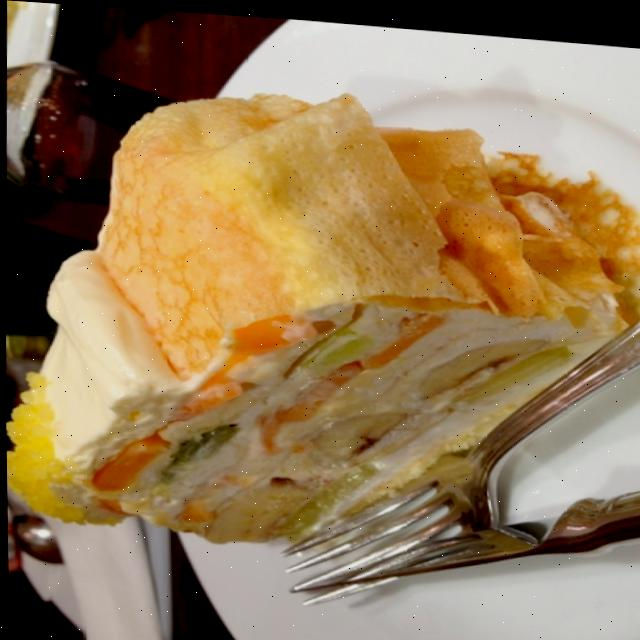蔬菜料理: (82, 32, 506, 640)
